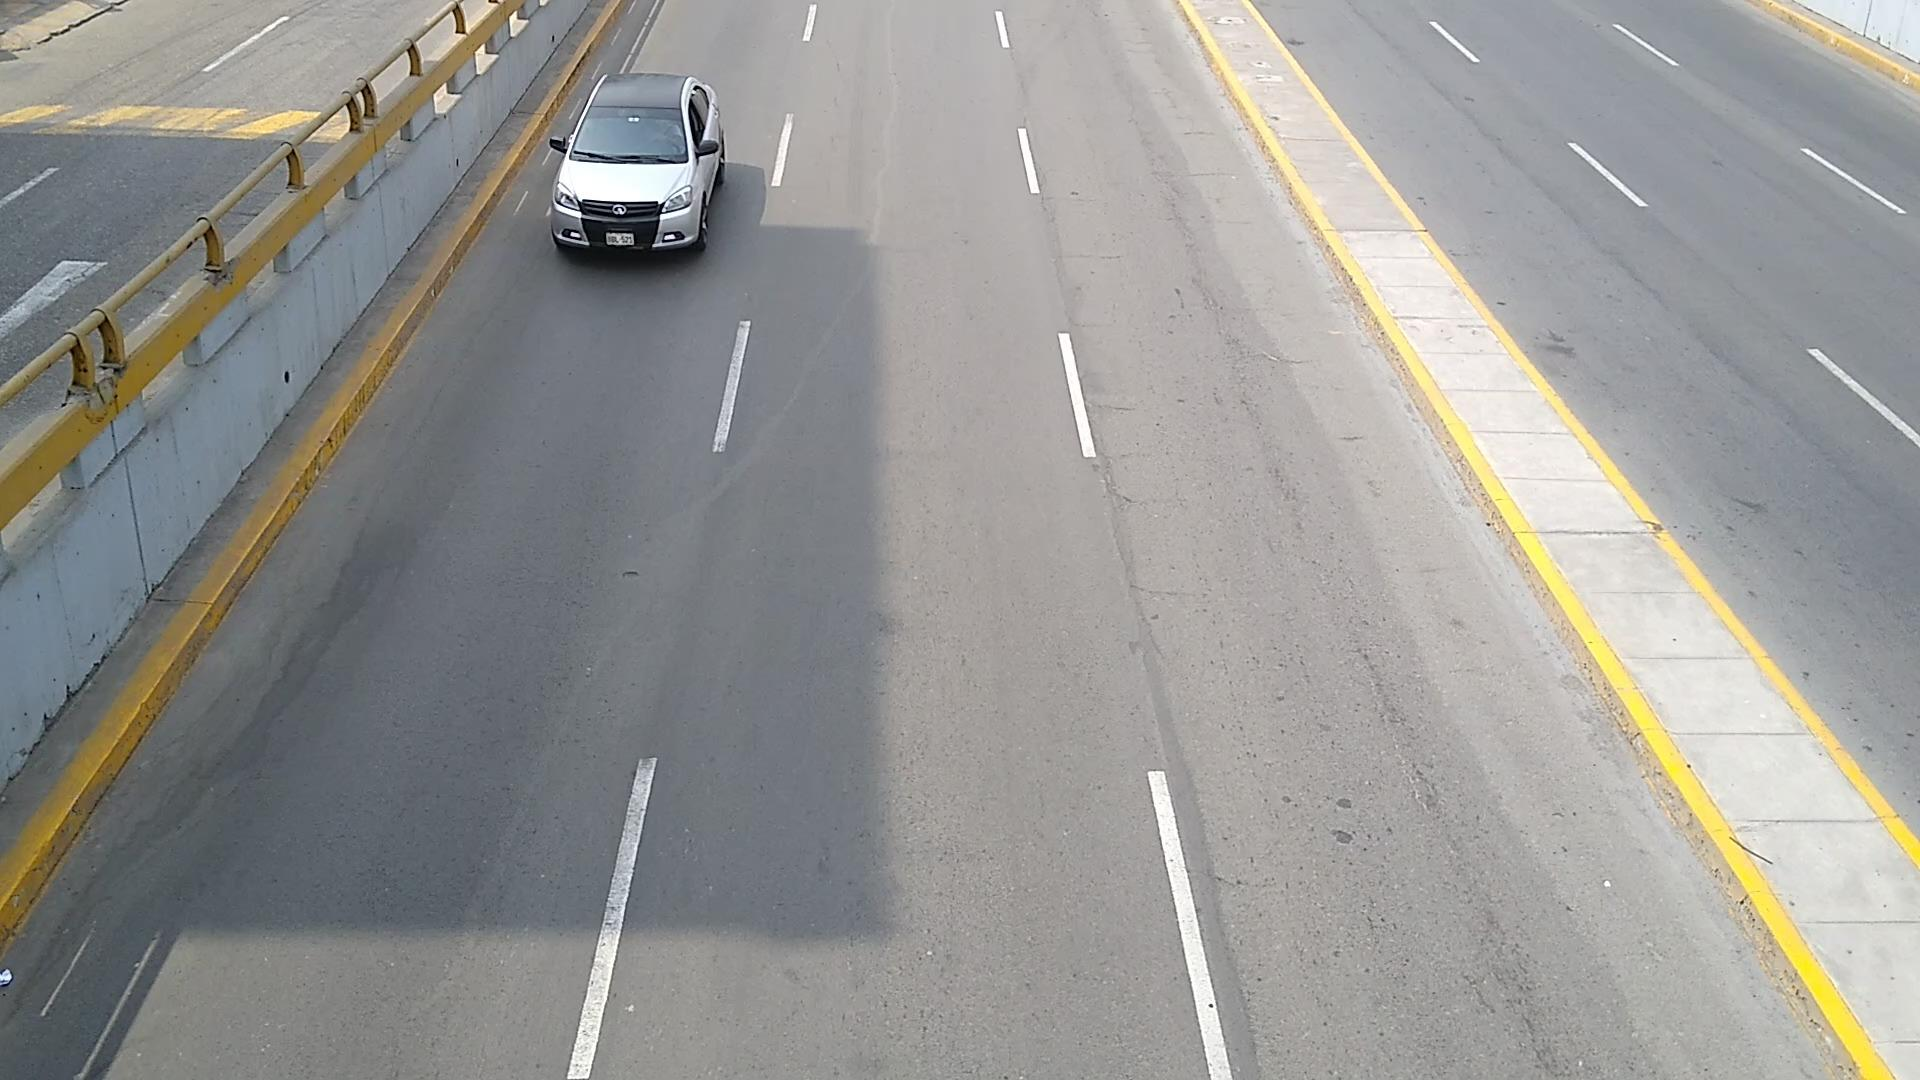car: (547, 75, 728, 252)
